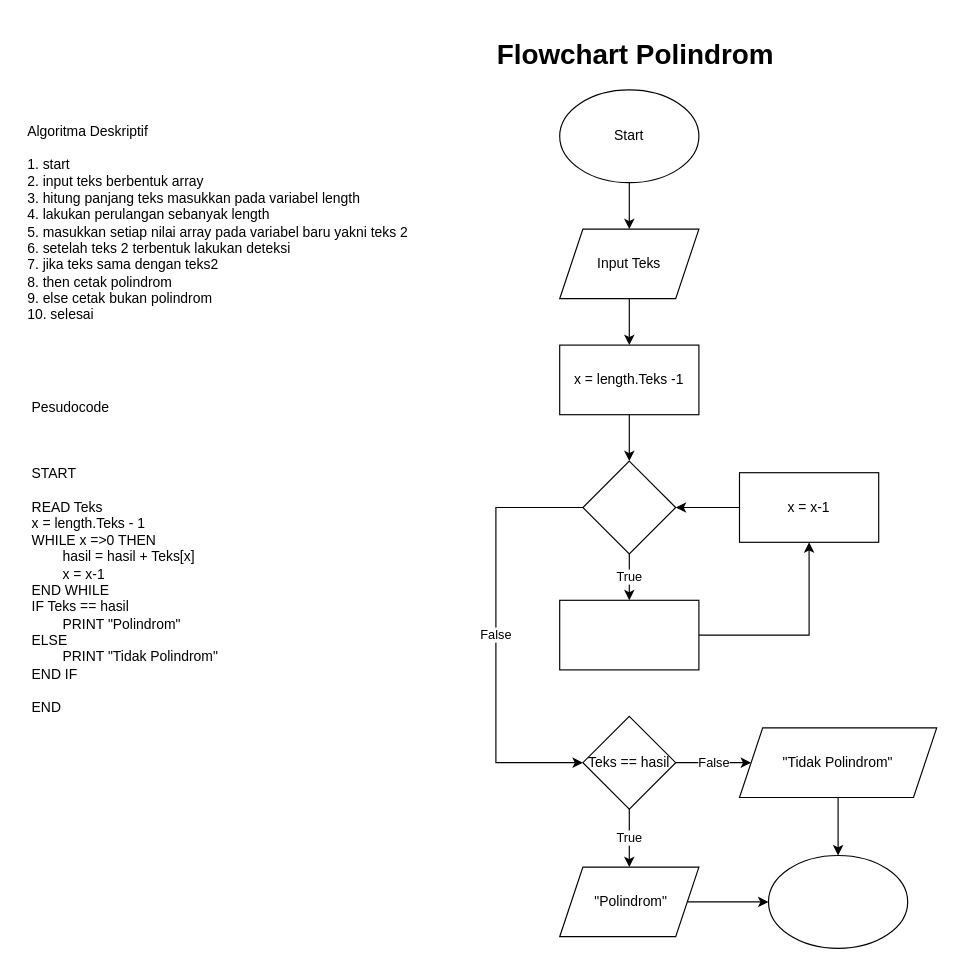
This 957x969 diagram has some shape labels left out. Here are the shapes that lost their labels. From the top down, the centre of each, then its label:
At (629,507): "x => 0".
At (629,634): "hasil = hasil + Teks[x]".
At (837,901): "Selesai".
